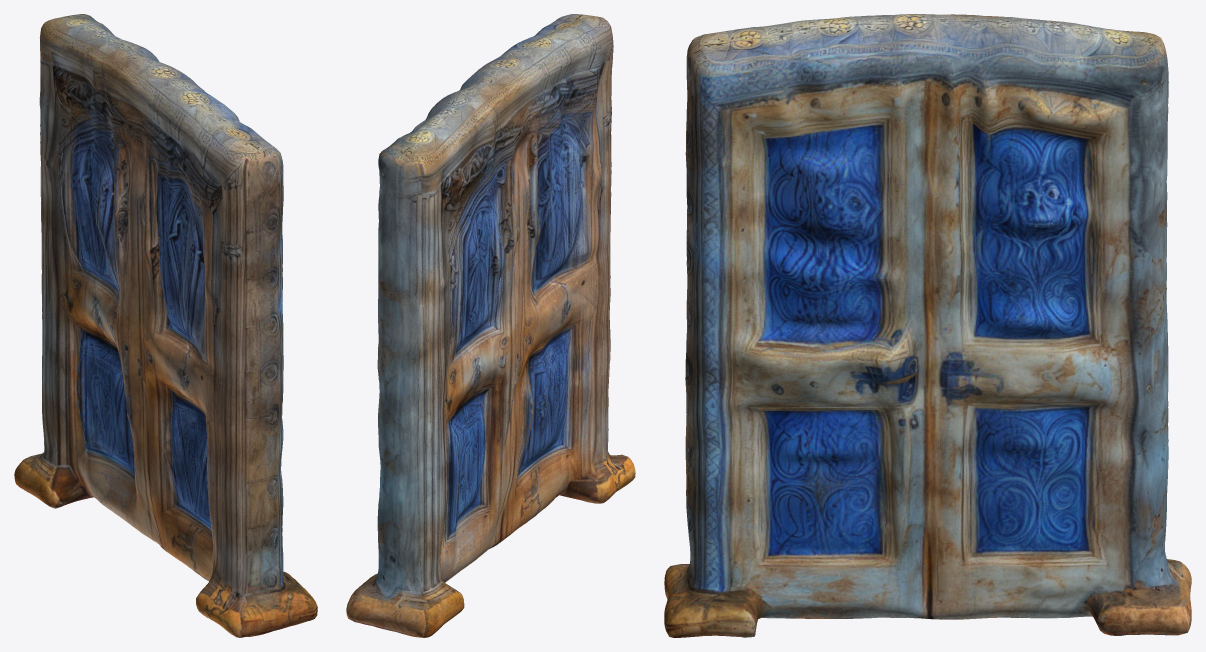
3 renders of one model, left to right at view 1: azimuth 30°, elevation 25°; view 2: azimuth 150°, elevation 25°; view 3: azimuth 270°, elevation 25°, orthographic. The views are drawn at different scales.
Visible parts, largest first — view 1: Mesh_0; view 2: Mesh_0; view 3: Mesh_0.
Part boxes in pixels (box(x1,y1,x2,y2)): Mesh_0: box(14, 14, 317, 637); Mesh_0: box(346, 14, 635, 637); Mesh_0: box(664, 14, 1191, 637).
Size of the model in its own units: 24.03 by 120 by 95.75.
Materials: 1 (1 with a texture image).
